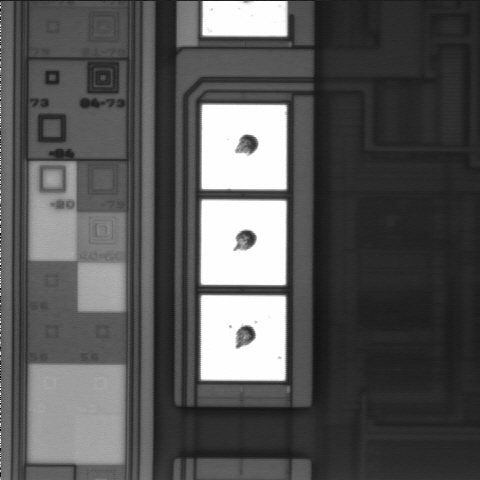pad: (201, 295, 286, 381), (201, 200, 286, 285), (202, 105, 286, 189)
